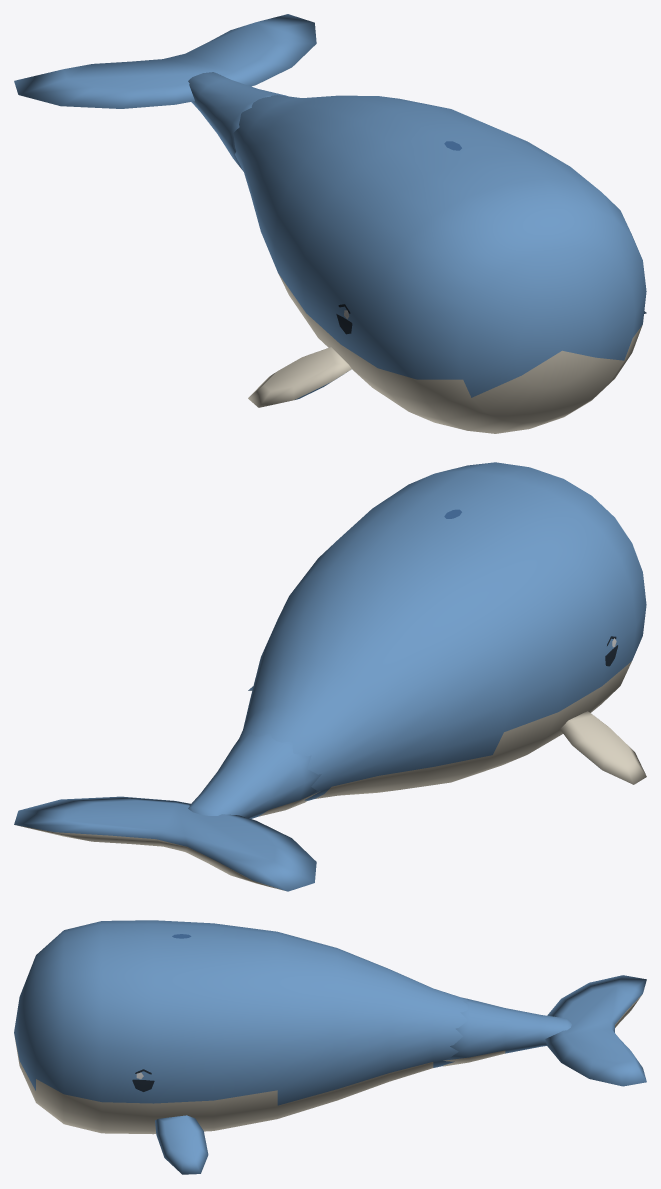
Rendered from whale.glb.
3 renders of one model, top to bottom at view 1: azimuth 30°, elevation 25°; view 2: azimuth 150°, elevation 25°; view 3: azimuth 270°, elevation 25°, orthographic. The views are drawn at different scales.
Visible parts, largest first — view 1: body, tail; view 2: body, tail; view 3: body, tail.
Part boxes in pixels (bbox=[...]): body: bbox=[233, 95, 646, 433]; tail: bbox=[14, 14, 316, 171]; body: bbox=[239, 462, 646, 800]; tail: bbox=[14, 731, 321, 891]; body: bbox=[14, 920, 468, 1174]; tail: bbox=[443, 975, 646, 1086].
Size of the model in its own units: 8.64 by 5.01 by 15.85.
